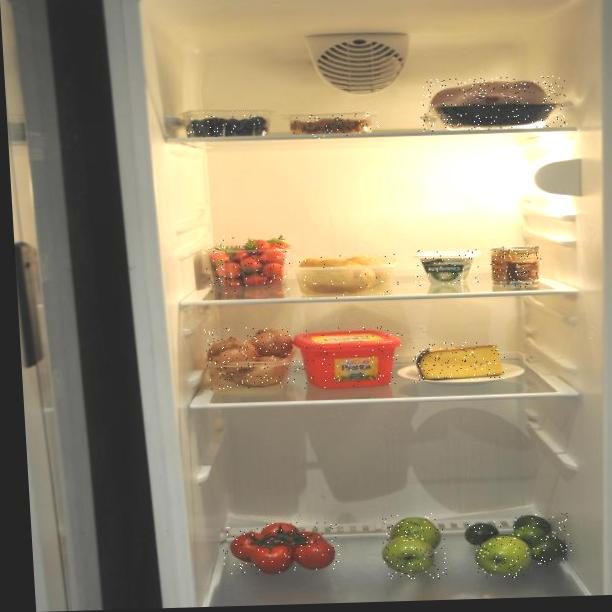apple: (381, 513, 447, 581), (475, 534, 534, 579)
blueberries: (186, 114, 269, 138)
butter: (294, 326, 406, 391)
cheese: (412, 341, 507, 383)
chicken: (418, 76, 568, 132)
corn: (490, 244, 544, 288)
goat_cheese: (413, 247, 480, 286)
lime: (510, 513, 572, 566), (464, 521, 503, 546)
onion: (204, 325, 299, 390)
potato: (299, 254, 400, 300)
shrimp: (286, 112, 380, 141)
strawberries: (203, 234, 292, 295)
tomato: (221, 520, 340, 576)
